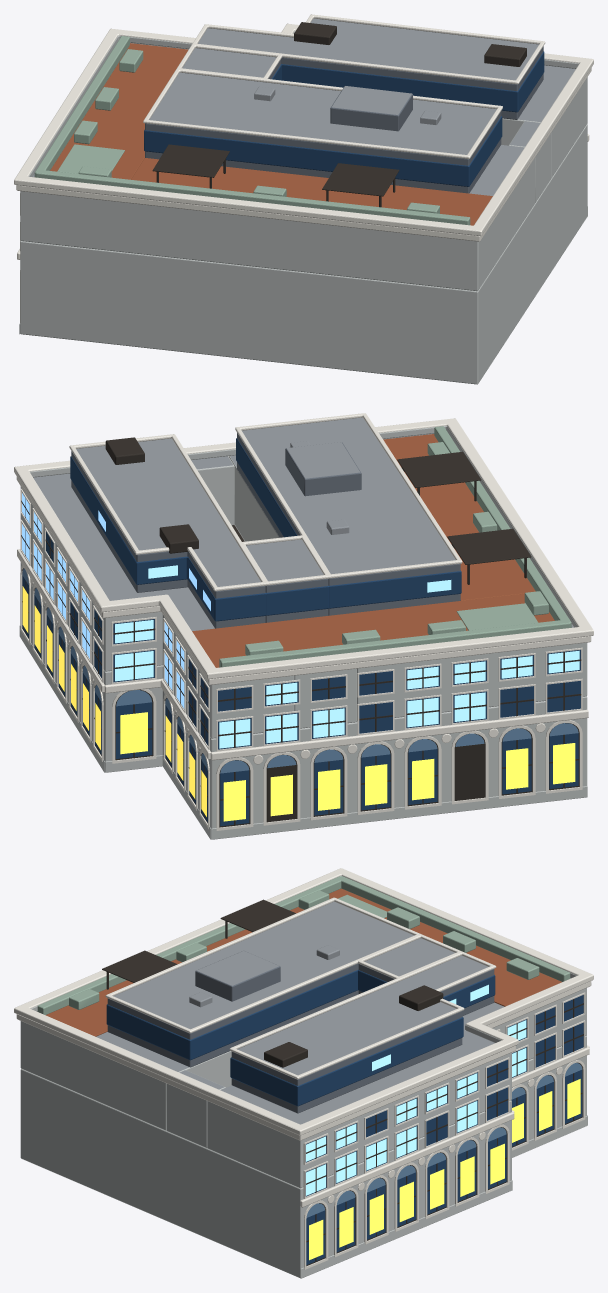
Rendered from 1-south-park.optimized.glb.
The picture shows the model from 3 angles, top to bottom: view 1: azimuth 30°, elevation 25°; view 2: azimuth 150°, elevation 25°; view 3: azimuth 270°, elevation 25°; orthographic projection. The views are drawn at different scales.
Visible parts, largest first — view 1: grp_Toy_dove, grp_Toy_slate_Toy_steel, grp_Toy_dove_Toy_steel, grp_Toy_white, grp_Toy_rust, grp_Toy_glass, grp_Toy_verdigris, grp_Toy_ink, parapet, grp_Toy_steel; view 2: grp_Toy_white, grp_Toy_slate_Toy_steel, grp_Toy_glass, grp_Toy_dove_Toy_steel, grp_Toy_dove, grp_Toy_ink, grp_Toy_rust, grp_Toy_glassl_Glow, grp_Toy_mustard_Glow, grp_Toy_verdigris, grp_Toy_glassl, parapet; view 3: grp_Toy_dove, grp_Toy_white, grp_Toy_slate_Toy_steel, grp_Toy_dove_Toy_steel, grp_Toy_glass, grp_Toy_verdigris, grp_Toy_ink, grp_Toy_glassl_Glow, grp_Toy_mustard_Glow, grp_Toy_rust, grp_Toy_glassl.
Boxes of the visible parts, box(x1,y1,x2,y2) form: grp_Toy_dove: box(19, 124, 587, 384); grp_Toy_slate_Toy_steel: box(145, 18, 543, 193); grp_Toy_dove_Toy_steel: box(20, 42, 587, 291); grp_Toy_white: box(14, 14, 593, 322); grp_Toy_rust: box(50, 43, 492, 225); grp_Toy_glass: box(144, 51, 544, 186); grp_Toy_verdigris: box(34, 36, 470, 225); grp_Toy_ink: box(152, 22, 526, 207); parapet: box(29, 30, 579, 176); grp_Toy_steel: box(254, 86, 441, 124); grp_Toy_white: box(14, 413, 593, 830); grp_Toy_slate_Toy_steel: box(71, 417, 460, 628); grp_Toy_glass: box(22, 438, 580, 826); grp_Toy_dove_Toy_steel: box(20, 433, 587, 738); grp_Toy_dove: box(19, 524, 587, 839); grp_Toy_ink: box(21, 437, 581, 827); grp_Toy_rust: box(192, 434, 554, 667); grp_Toy_glassl_Glow: box(22, 493, 579, 748); grp_Toy_mustard_Glow: box(22, 586, 575, 821); grp_Toy_verdigris: box(219, 426, 571, 667); grp_Toy_glassl: box(22, 568, 578, 773); parapet: box(30, 426, 577, 627); grp_Toy_dove: box(20, 1035, 587, 1278); grp_Toy_white: box(14, 868, 593, 1269); grp_Toy_slate_Toy_steel: box(107, 901, 494, 1113); grp_Toy_dove_Toy_steel: box(20, 978, 586, 1188); grp_Toy_glass: box(106, 969, 583, 1264); grp_Toy_verdigris: box(37, 876, 570, 1014); grp_Toy_ink: box(102, 899, 583, 1266); grp_Toy_glassl_Glow: box(306, 984, 526, 1195); grp_Toy_mustard_Glow: box(309, 1079, 580, 1260); grp_Toy_rust: box(46, 888, 561, 1036); grp_Toy_glassl: box(306, 1063, 582, 1217).
Size of the model in its own units: 58.92 by 20.2 by 54.91.
